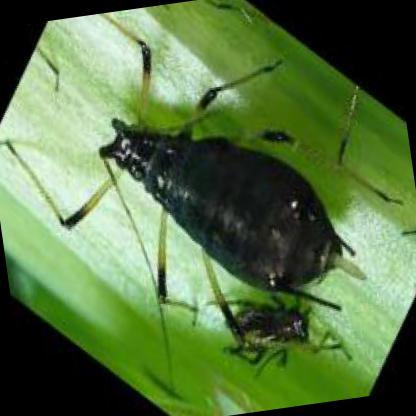uroleucon compositae: (99, 46, 367, 349)
